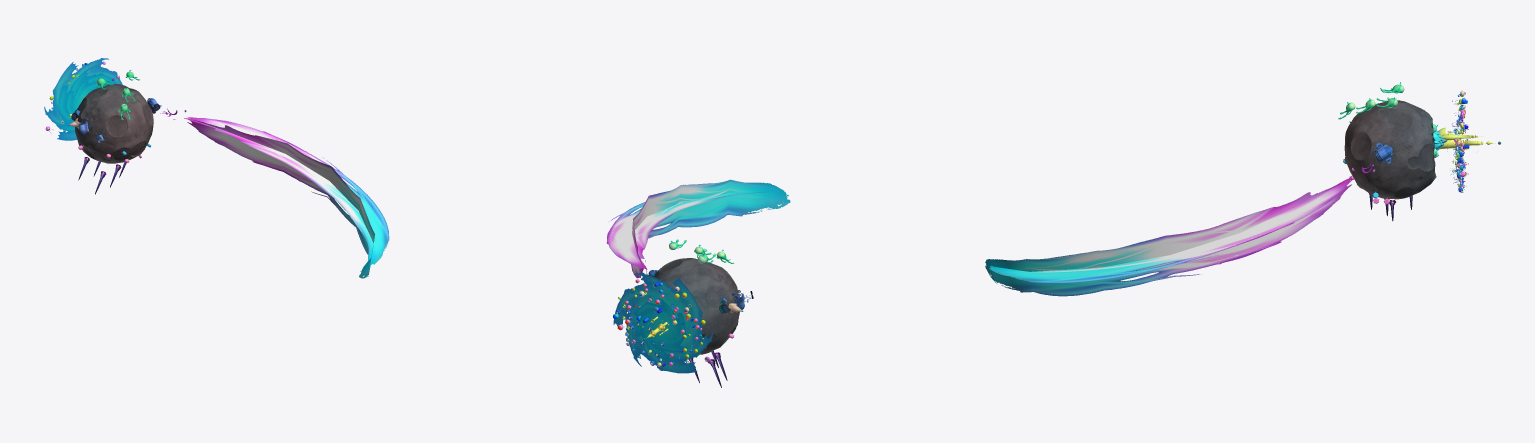
The model's file is OTMLunariaDesk.fbx.
The picture shows the model from 3 angles, left to right: view 1: azimuth 30°, elevation 25°; view 2: azimuth 150°, elevation 25°; view 3: azimuth 270°, elevation 25°; orthographic projection. The views are drawn at different scales.
Parts seen in each view (by area): view 1: Plane.007, tmoon.002, Plane.005; view 2: Plane.007, Plane.005, tmoon.002, planeta_6.028, sapo_body.002, Circle_002.001; view 3: Plane.007, tmoon.002, planeta_6.028, otm_env_palace_ext_model_palaceext_full_asmb_5:palaceex_612..
Part boxes in pixels (box(x1,y1,x2,y2)): Plane.007: box(160, 108, 389, 278); tmoon.002: box(75, 84, 153, 163); Plane.005: box(44, 58, 122, 140); Plane.007: box(606, 179, 790, 278); Plane.005: box(613, 273, 712, 373); tmoon.002: box(654, 258, 739, 354); planeta_6.028: box(616, 279, 716, 366); sapo_body.002: box(669, 239, 734, 263); Circle_002.001: box(719, 290, 753, 314); Plane.007: box(985, 162, 1375, 296); tmoon.002: box(1344, 100, 1436, 199); planeta_6.028: box(1452, 93, 1468, 192); otm_env_palace_ext_model_palaceext_full_asmb_5:palaceex_612.: box(1433, 127, 1502, 151).
Bounding box in the file's own units: 33421 × 36363 × 47830.
